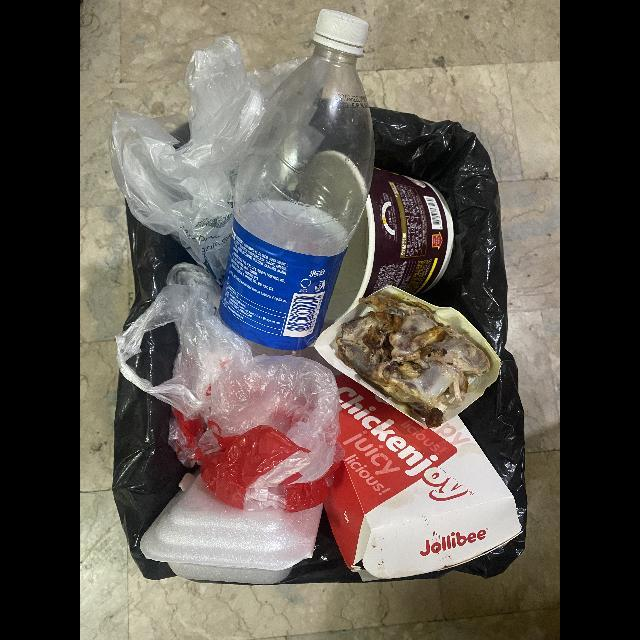biowaste: (336, 292, 489, 428)
paper: (324, 370, 523, 582), (325, 168, 454, 321)
plastic: (116, 263, 345, 513), (218, 9, 375, 353), (110, 34, 307, 286)
styrofoam: (140, 473, 324, 585)
